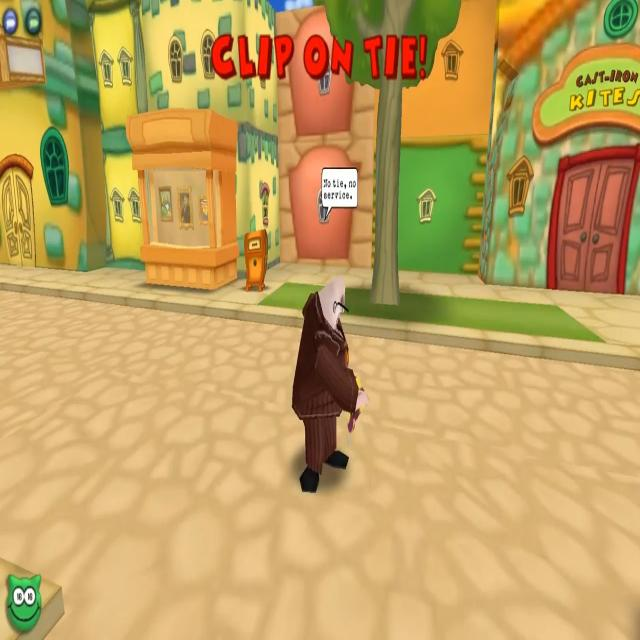flunky: (288, 162, 361, 494)
